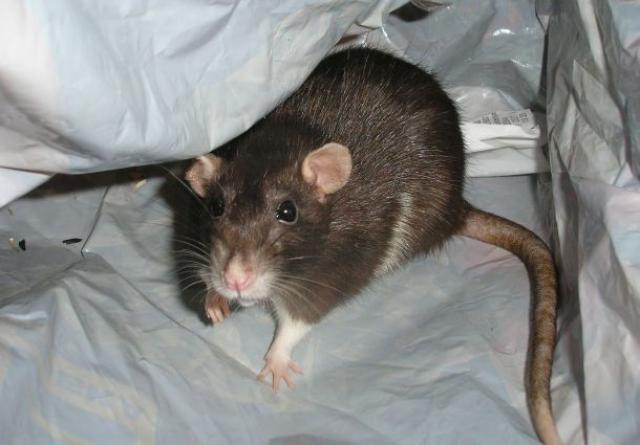rat: (166, 37, 562, 400)
